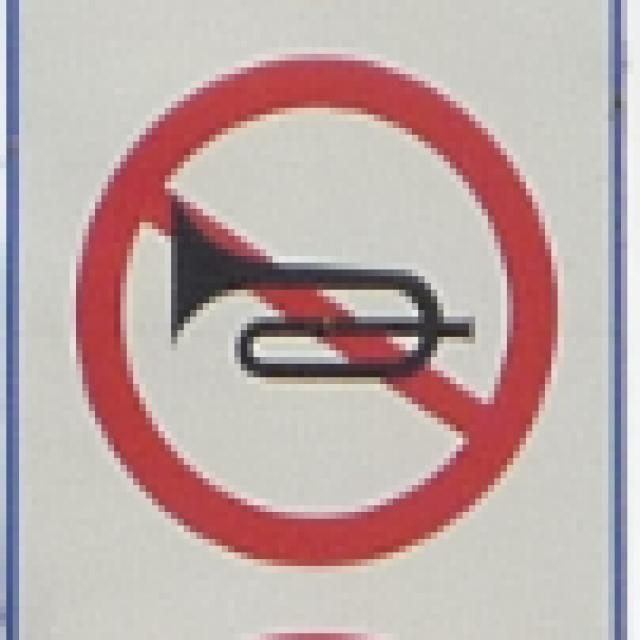No Horn: (75, 51, 572, 573)
